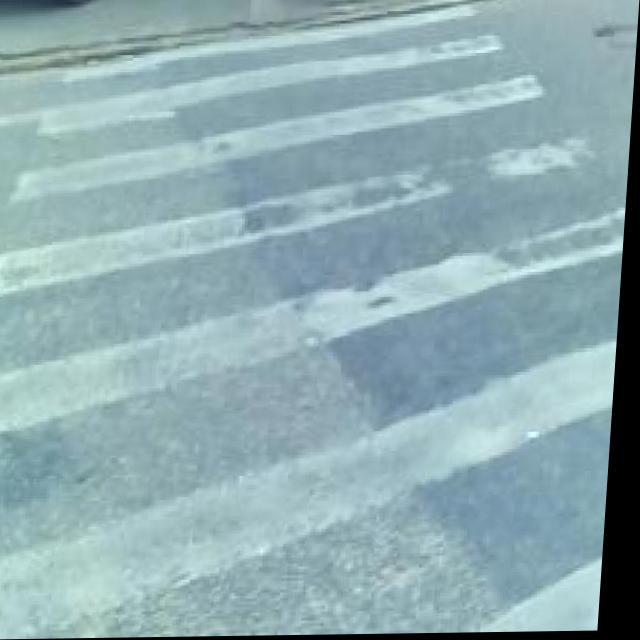zebra: (27, 53, 607, 639)
